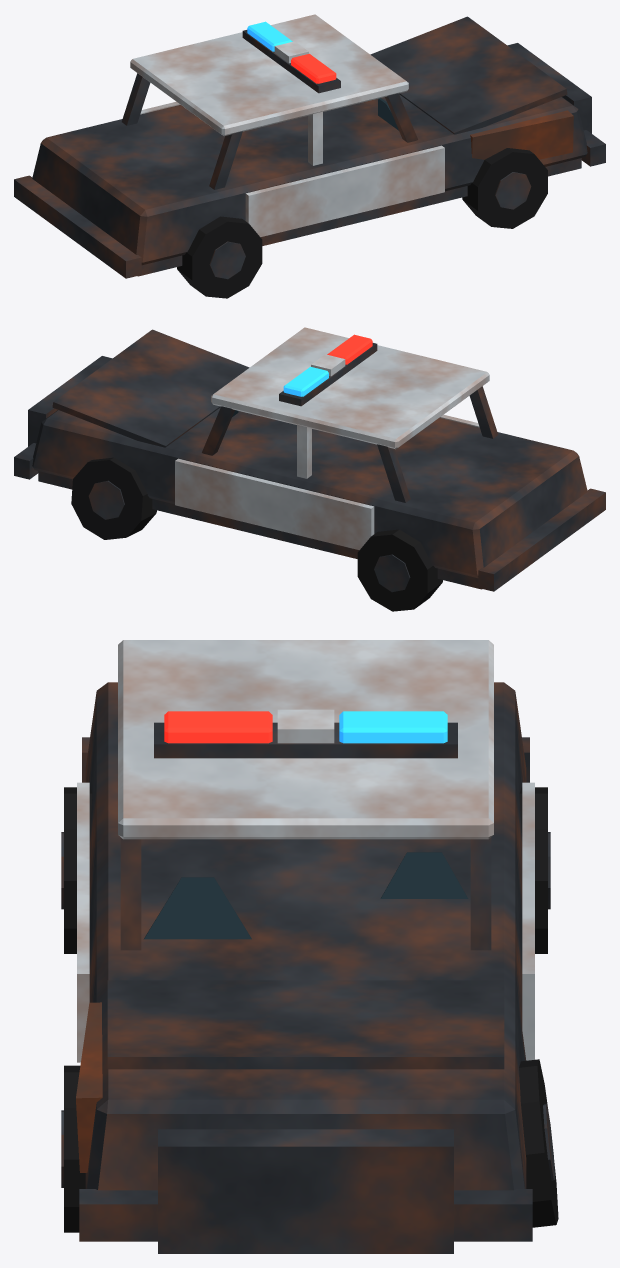
File: env_police_cruiser.glb
3 views of the same model, one above another, from view 1: azimuth 30°, elevation 25°; view 2: azimuth 150°, elevation 25°; view 3: azimuth 270°, elevation 25° (orthographic). The views are drawn at different scales.
Visible parts, largest first — view 1: Env_police_cruiser; view 2: Env_police_cruiser; view 3: Env_police_cruiser.
Boxes of the visible parts, left/top/right/bottom form: Env_police_cruiser: left=14, top=14, right=605, bottom=298; Env_police_cruiser: left=14, top=327, right=605, bottom=611; Env_police_cruiser: left=61, top=640, right=558, bottom=1253.
Bounding box in the file's own units: 4.35 × 1.5 × 1.93.
7 materials, 3 textured.
